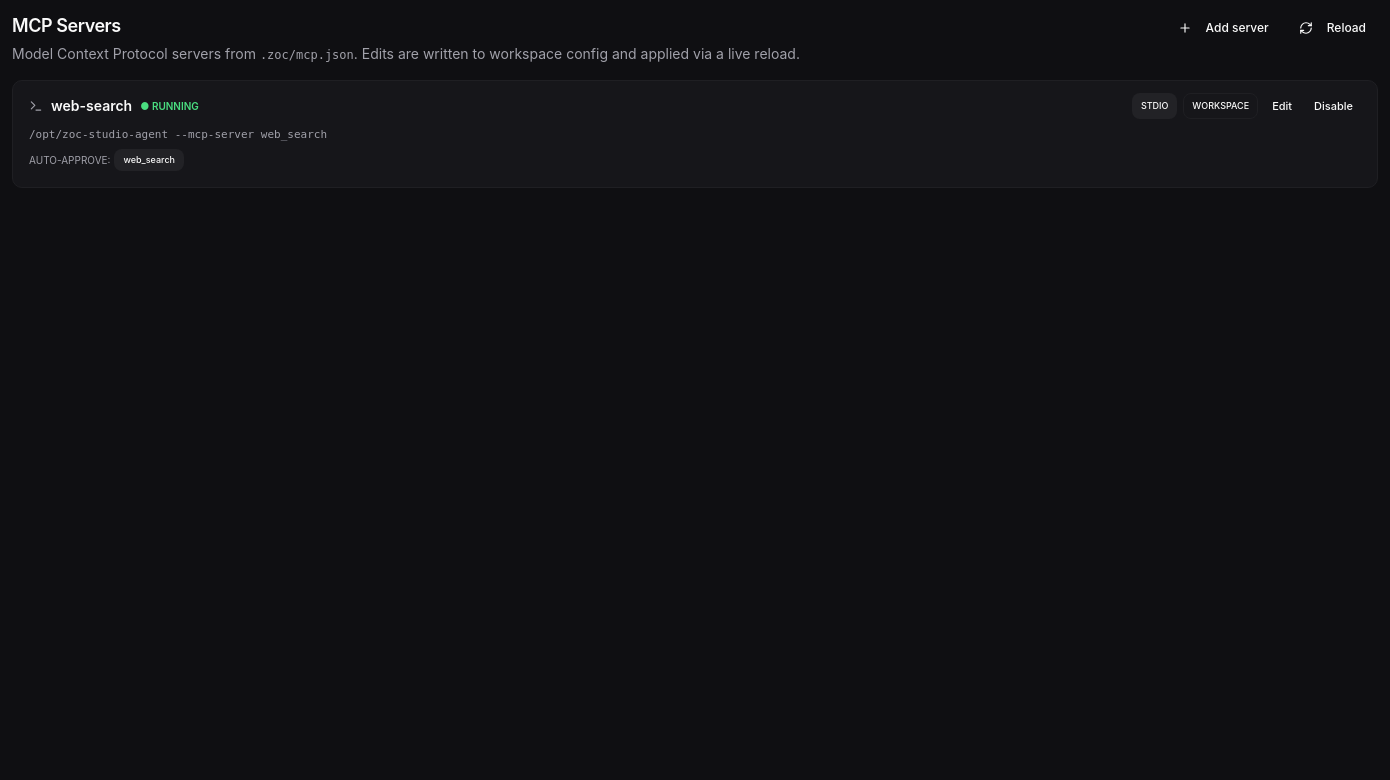
Test: McpSection runtime management › validates transport-specific fields before writing
Check: the text "web-search" is shown, box x1=51 y1=97 x2=132 y2=114
Click the button "Add server". click: (1223, 28)
box: x1=1166 y1=12 x2=1281 y2=44
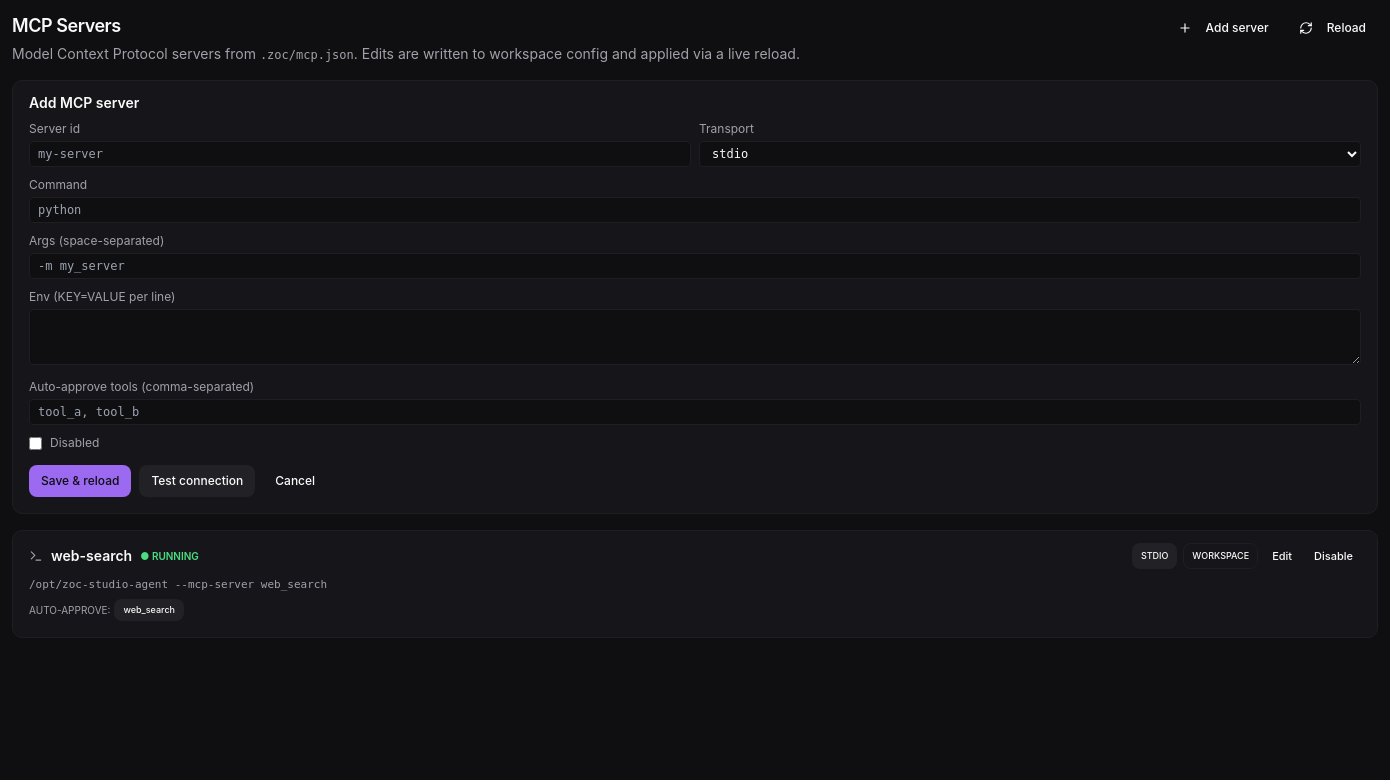
Type "missing" into the field with placeholder "my-server". click: (360, 154)
box: x1=29 y1=141 x2=691 y2=167
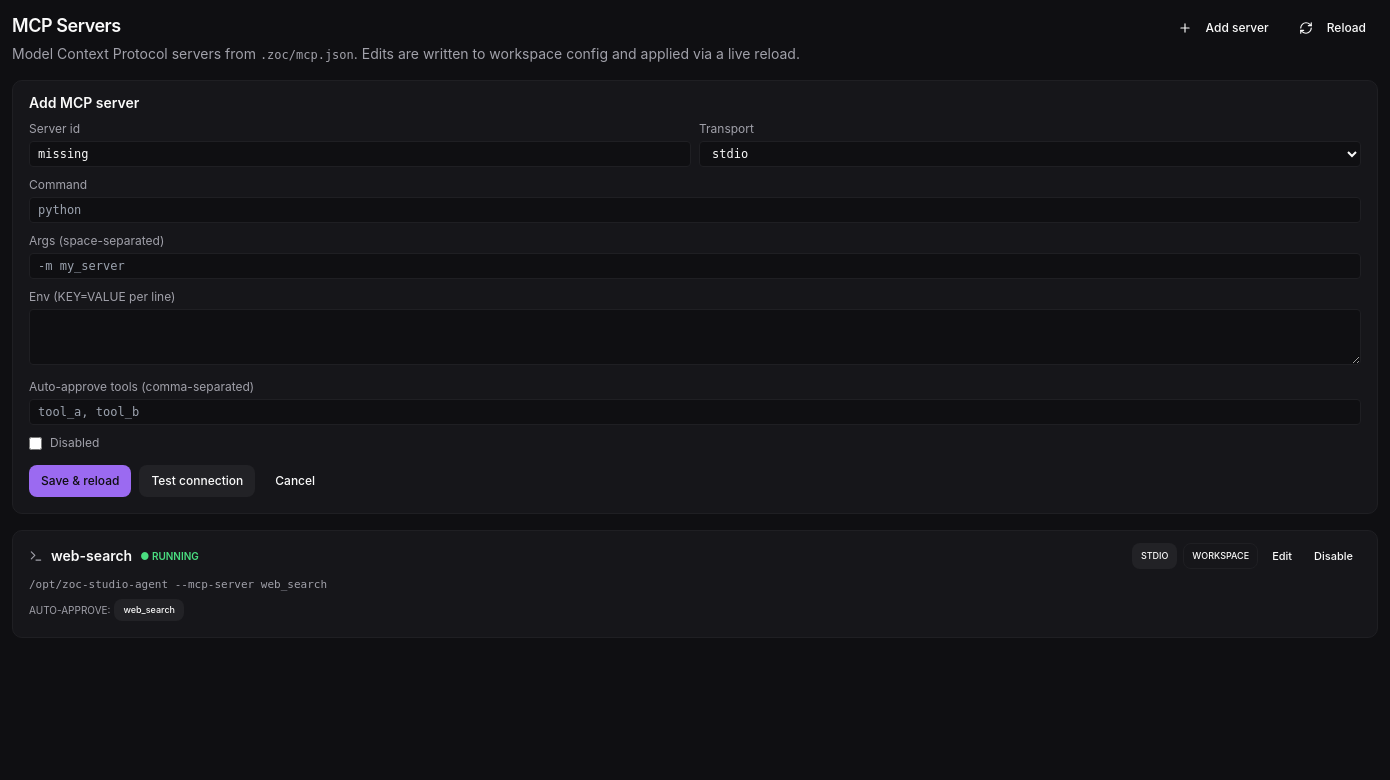
Click the button "Save & reload". click: (80, 481)
box: x1=29 y1=465 x2=131 y2=497
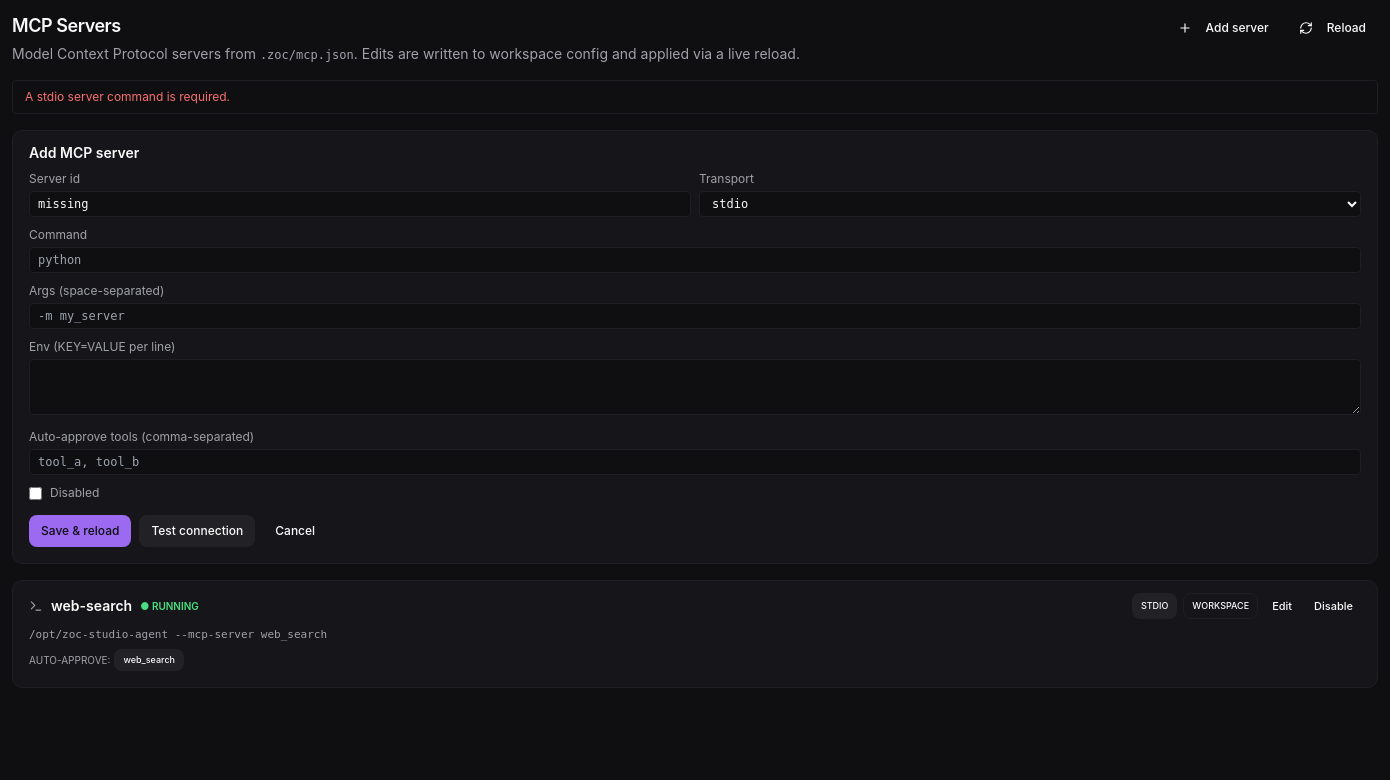
Check: the text "A stdio server command is required." is shown, box x1=12 y1=80 x2=1378 y2=114
